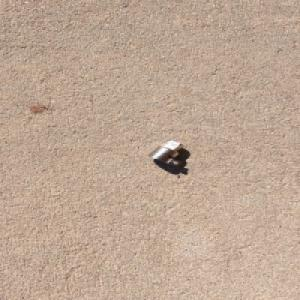MetalPart: (146, 139, 185, 167)
